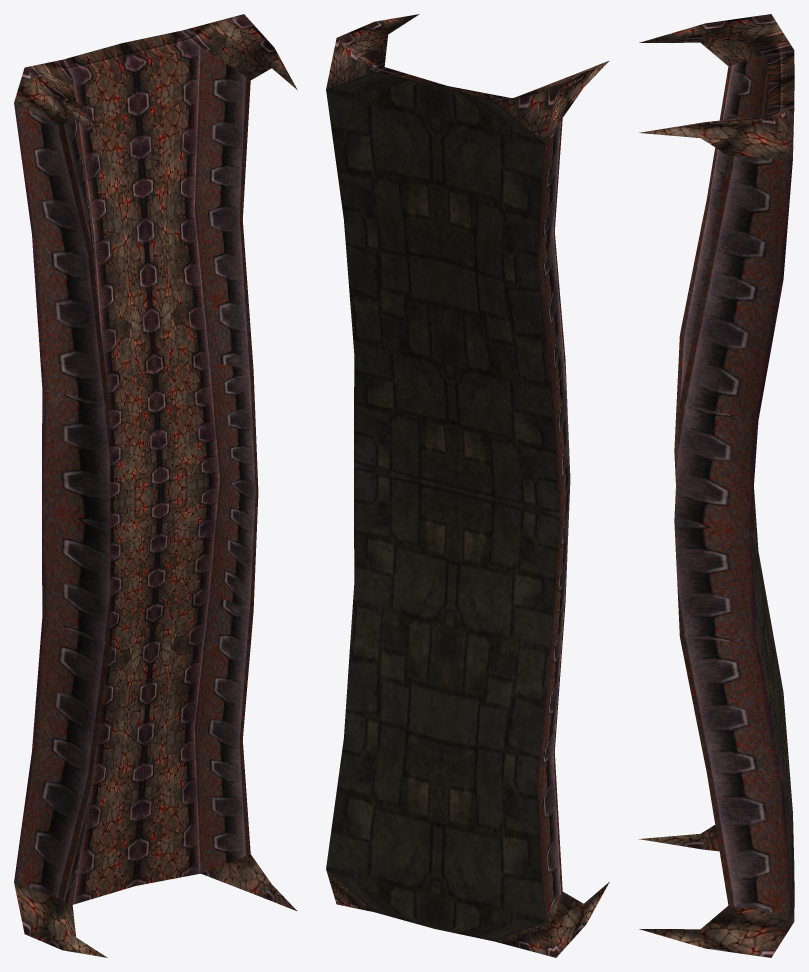
The model's file is bridge_07.obj.
3 renders of one model, left to right at view 1: azimuth 30°, elevation 25°; view 2: azimuth 150°, elevation 25°; view 3: azimuth 270°, elevation 25°, orthographic. The views are drawn at different scales.
Parts seen in each view (by area): view 1: (null); view 2: (null); view 3: (null).
Part boxes in pixels (box(x1,y1,x2,y2)): (null): box(14, 14, 297, 957); (null): box(326, 14, 609, 957); (null): box(639, 14, 794, 957).
Bounding box in the file's own units: 2.04 × 7.69 × 1.3.
